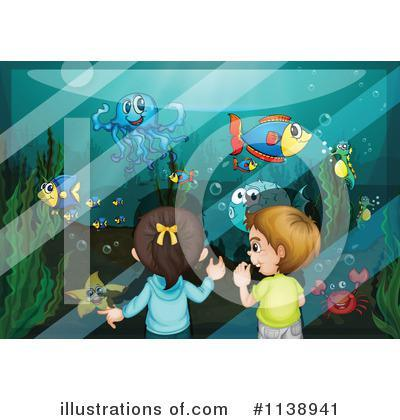person: (97, 210, 228, 337), (233, 205, 323, 340)
